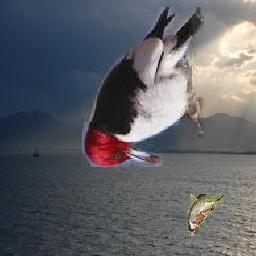Sparrow: (188, 194, 225, 236)
Woodpecker: (82, 7, 204, 167)
